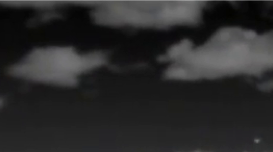Target: (254, 139, 259, 142)
